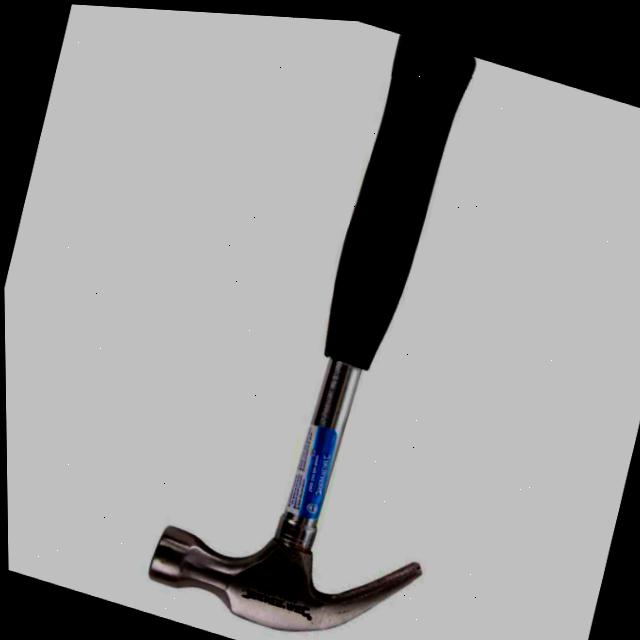hammer: (121, 6, 551, 640)
